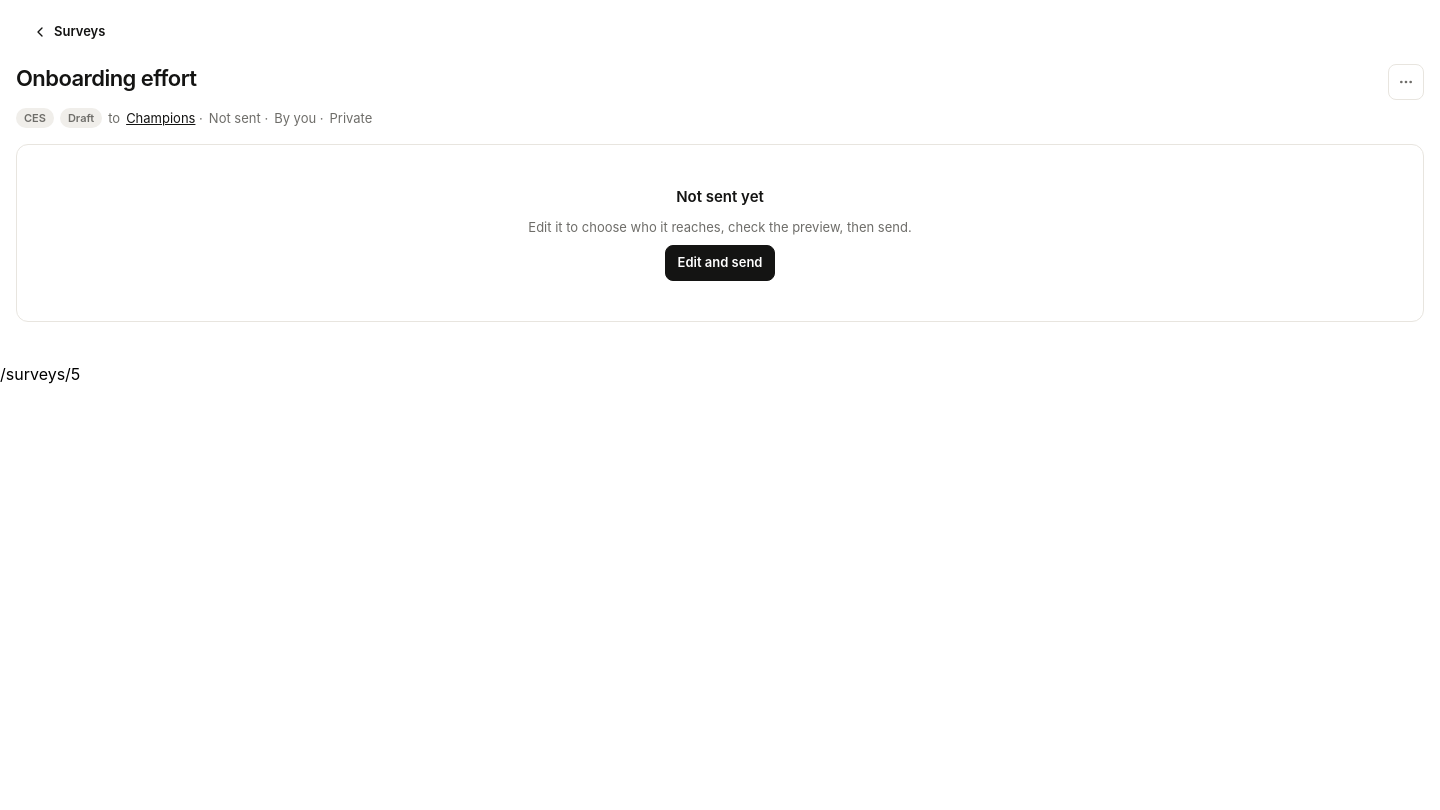
/surveys/:id (spec §2.3) › keeps the confirm open with the refusal when the delete fails
Click the button named "More actions" at x=1406, y=82, box x1=1388 y1=64 x2=1424 y2=100
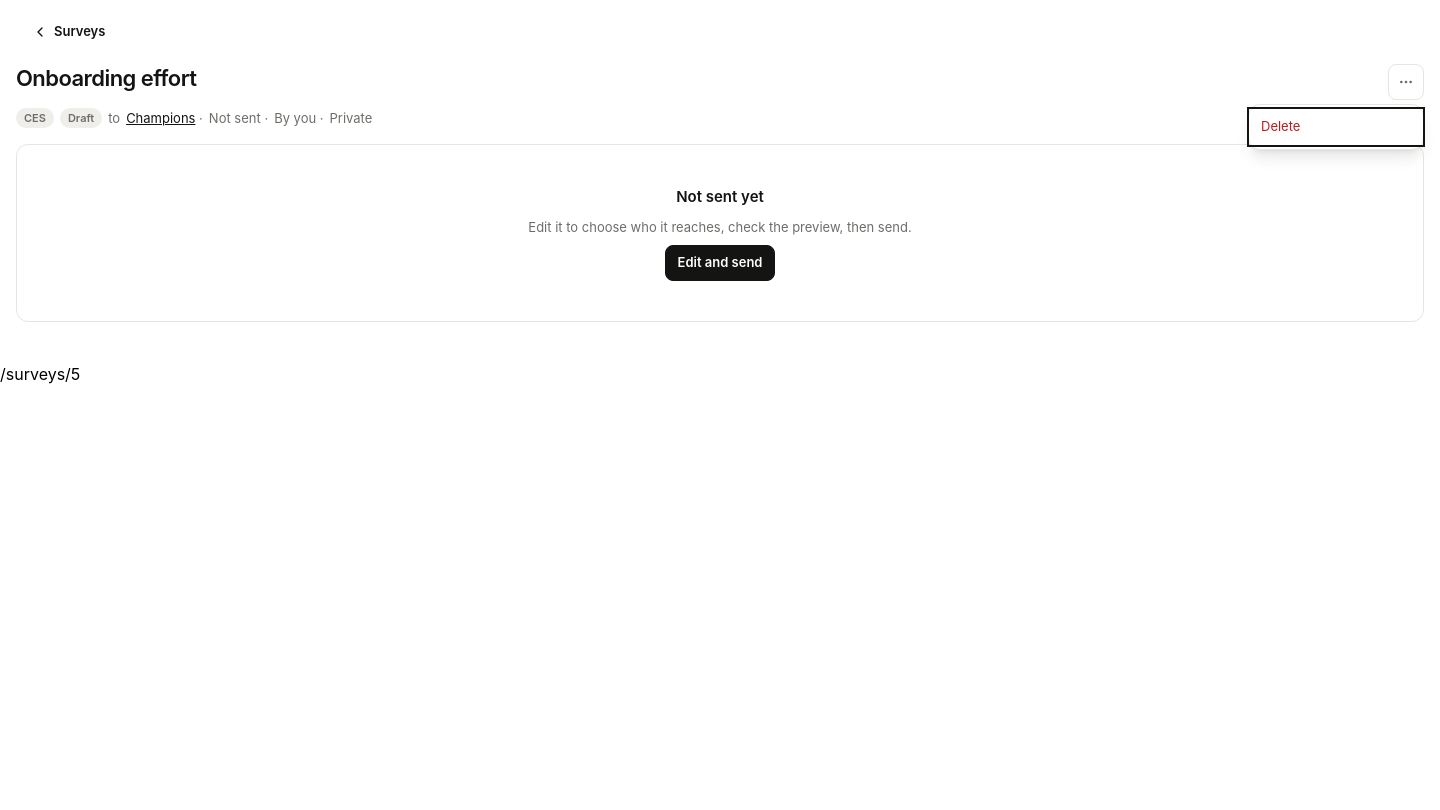
Click the menu item "Delete" at x=1336, y=127, box x1=1249 y1=109 x2=1423 y2=145
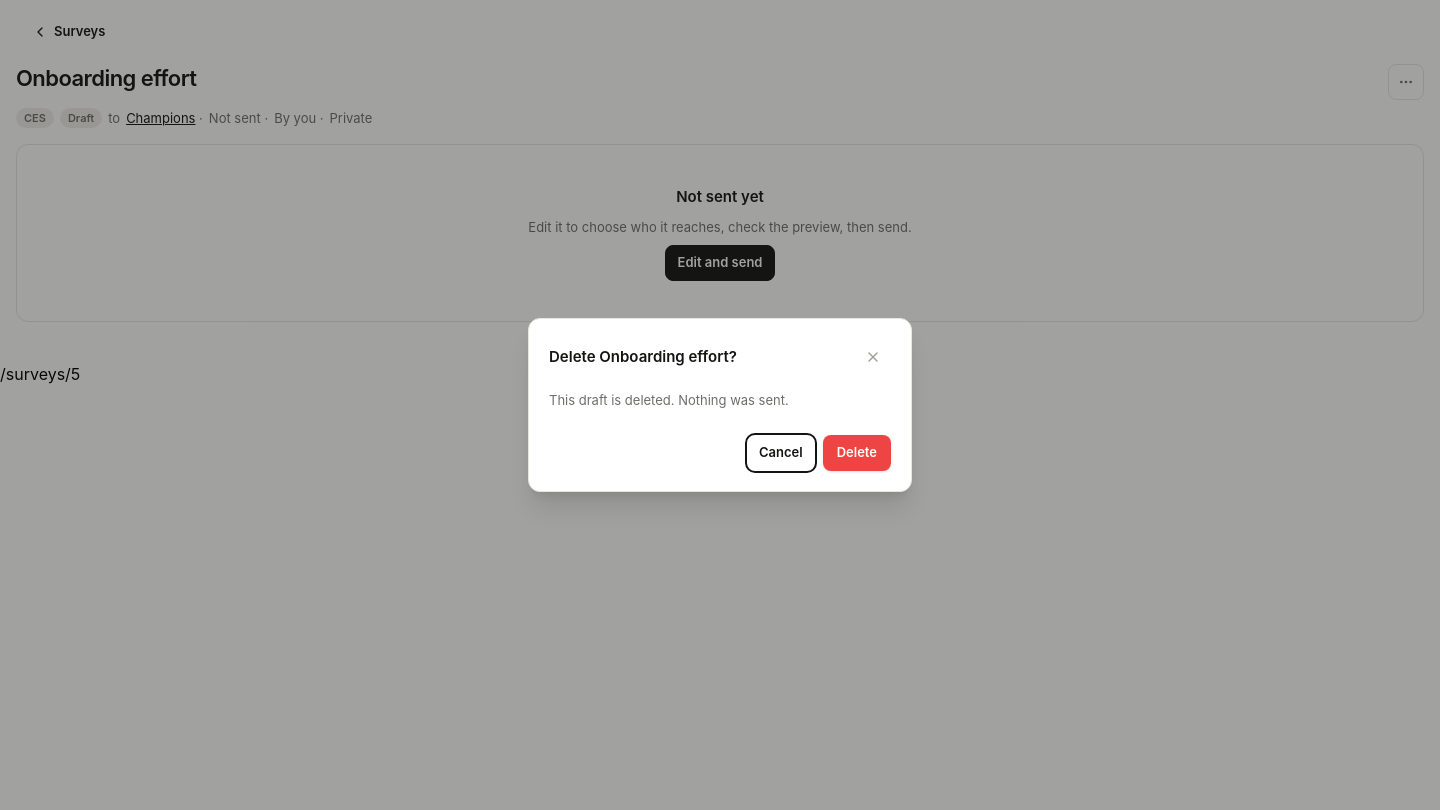
Click the button "Delete" at x=857, y=453, box x1=823 y1=435 x2=891 y2=471
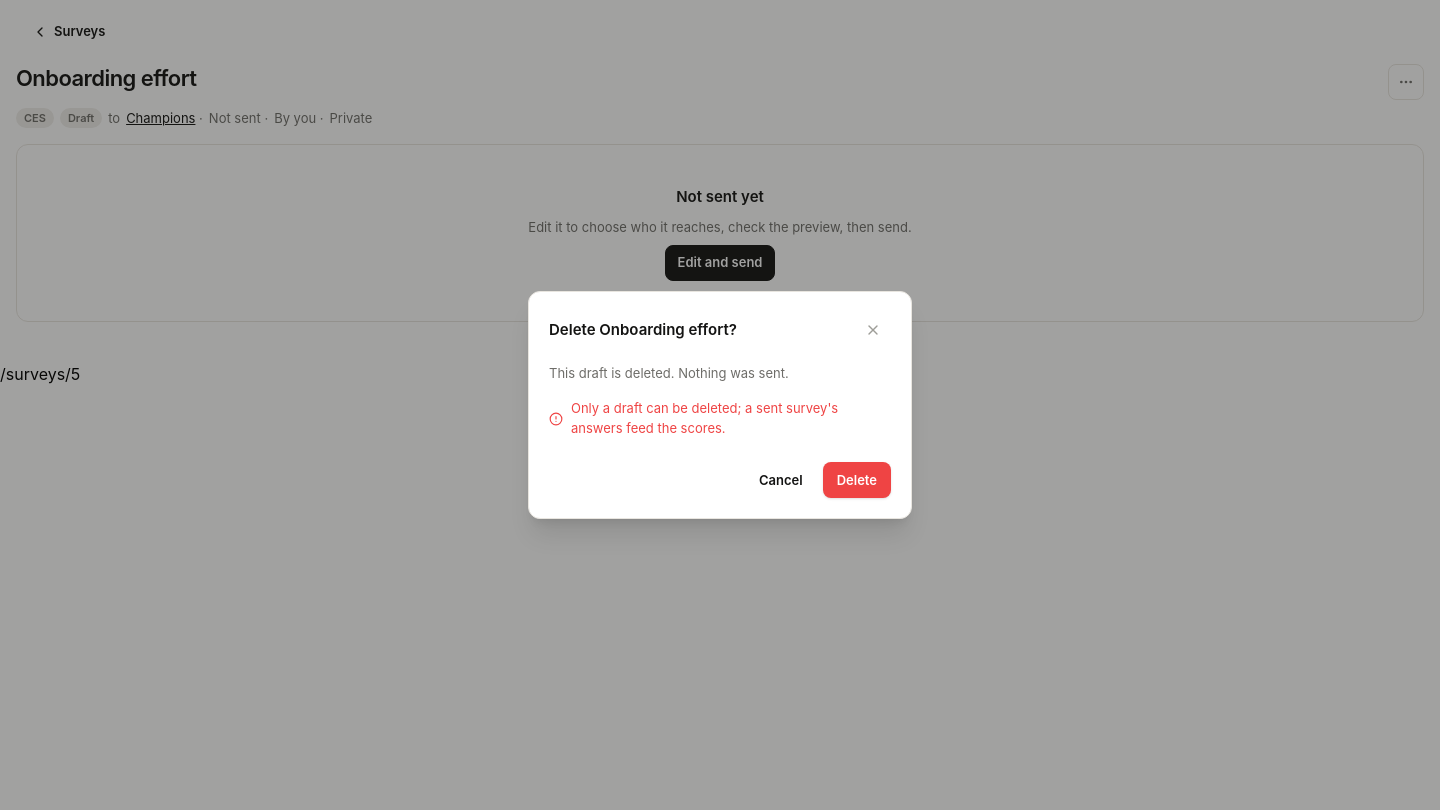
Check: the text with test id "where" reads "/surveys/5", box x1=0 y1=364 x2=80 y2=384
Check: the text "Only a draft can be deleted; a sent survey's answers feed the scores." is shown, box x1=549 y1=400 x2=838 y2=436
